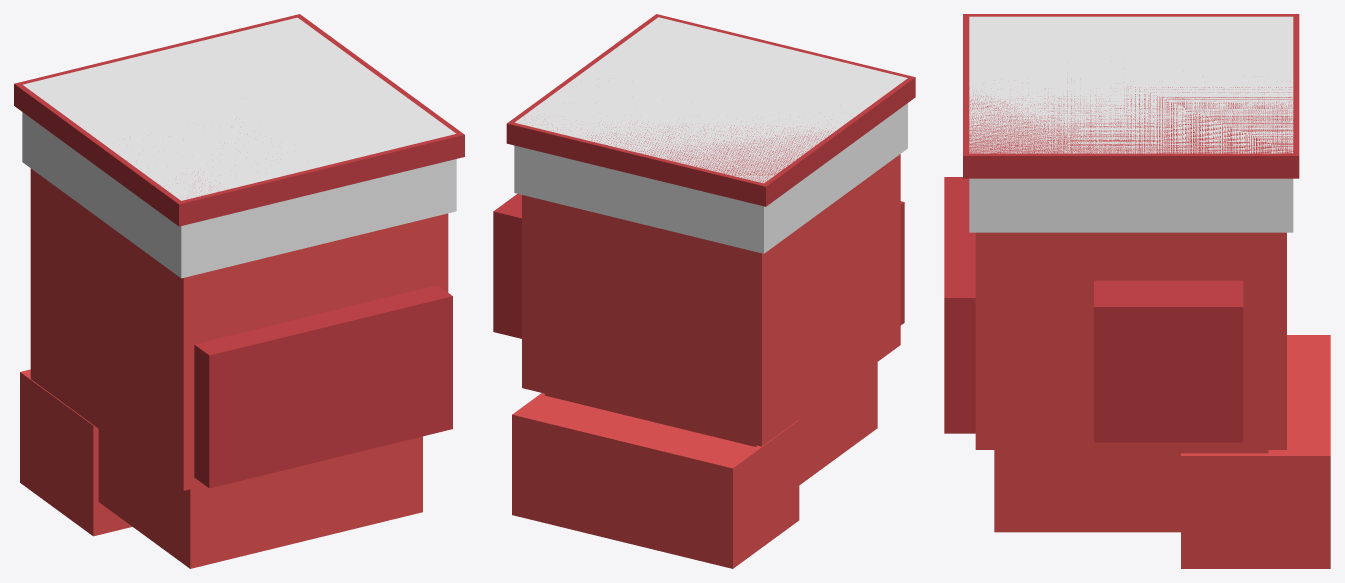
Rendered from luvas_boxe_vermelhas.glb.
3 renders of one model, left to right at view 1: azimuth 30°, elevation 25°; view 2: azimuth 150°, elevation 25°; view 3: azimuth 270°, elevation 25°, orthographic. The views are drawn at different scales.
Parts seen in each view (by area): view 1: luvas_boxe_vermelhas; view 2: luvas_boxe_vermelhas; view 3: luvas_boxe_vermelhas.
Part boxes in pixels (left/top/right/bottom): luvas_boxe_vermelhas: left=14, top=14, right=464, bottom=568; luvas_boxe_vermelhas: left=493, top=14, right=915, bottom=568; luvas_boxe_vermelhas: left=944, top=14, right=1330, bottom=568.
Size of the model in its own units: 0.31 by 0.375 by 0.31.
